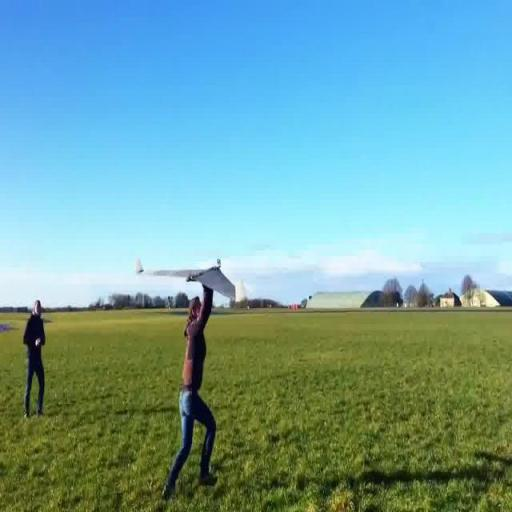uav: (133, 235, 249, 299)
